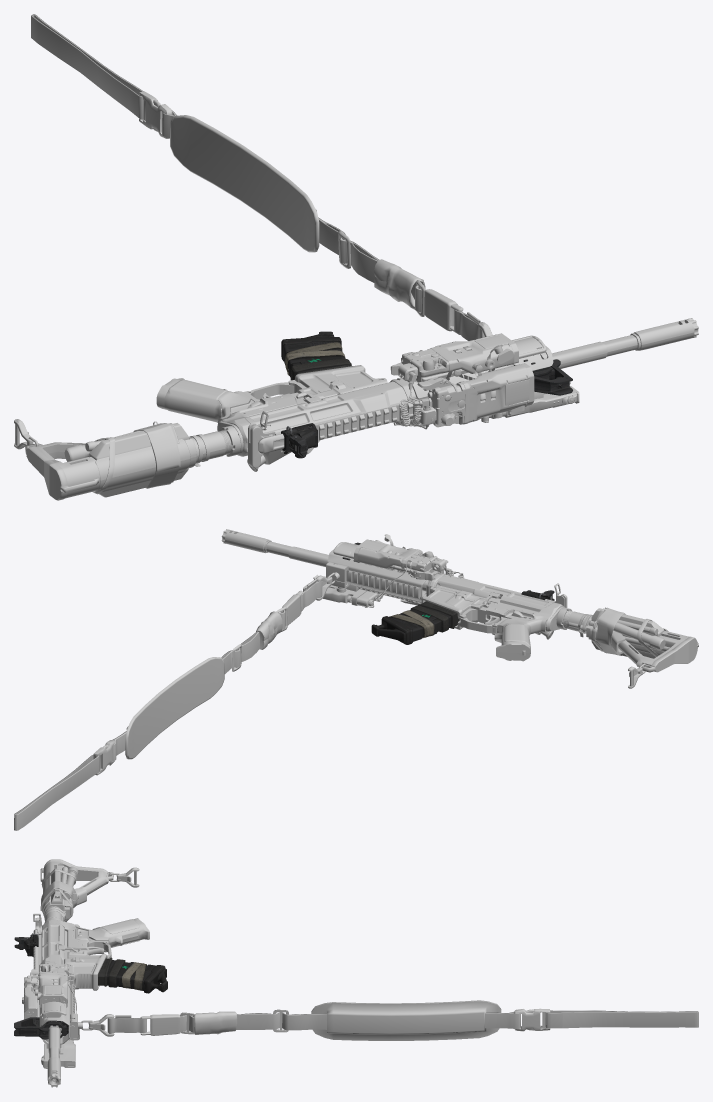
Rendered from Assault_NV4_FBX.fbx.
The picture shows the model from 3 angles, top to bottom: view 1: azimuth 30°, elevation 25°; view 2: azimuth 150°, elevation 25°; view 3: azimuth 270°, elevation 25°; orthographic projection. The views are drawn at different scales.
Visible parts, largest first — view 1: weapon_kb_m4_accessories_2_camo, weapon_kb_m4_body_camo, weapon_kb_m4_body_gunpaint_left_camo, weapon_kb_m4_accessories_camo, weapon_kb_m4_body_tint_camo, weapon_kb_m4_accessories_3_camo, weapon_kb_m4_mag_camo, weapon_kb_m4_sights_camo, weapon_kb_m4_accessories_1_camo; view 2: weapon_kb_m4_accessories_2_camo, weapon_kb_m4_body_camo, weapon_kb_m4_body_tint_camo, weapon_kb_m4_body_gunpaint_left_camo, weapon_kb_m4_mag_camo, weapon_kb_m4_accessories_3_camo, weapon_kb_m4_accessories_1_camo; view 3: weapon_kb_m4_accessories_2_camo, weapon_kb_m4_body_camo, weapon_kb_m4_body_gunpaint_left_camo, weapon_kb_m4_body_tint_camo, weapon_kb_m4_mag_camo, weapon_kb_m4_accessories_3_camo, weapon_kb_m4_sights_camo, weapon_kb_m4_accessories_camo, weapon_kb_m4_accessories_1_camo.
Boxes of the visible parts, box(x1,y1,x2,y2) form: weapon_kb_m4_accessories_2_camo: box(14, 14, 492, 449); weapon_kb_m4_body_camo: box(25, 318, 698, 500); weapon_kb_m4_body_gunpaint_left_camo: box(221, 365, 408, 439); weapon_kb_m4_accessories_camo: box(393, 363, 534, 429); weapon_kb_m4_body_tint_camo: box(64, 345, 553, 494); weapon_kb_m4_accessories_3_camo: box(390, 333, 518, 427); weapon_kb_m4_mag_camo: box(281, 331, 352, 380); weapon_kb_m4_sights_camo: box(281, 355, 572, 458); weapon_kb_m4_accessories_1_camo: box(489, 382, 579, 418); weapon_kb_m4_accessories_2_camo: box(14, 562, 646, 830); weapon_kb_m4_body_camo: box(221, 529, 698, 672); weapon_kb_m4_body_tint_camo: box(327, 549, 665, 661); weapon_kb_m4_body_gunpaint_left_camo: box(421, 575, 564, 626); weapon_kb_m4_mag_camo: box(371, 601, 459, 644); weapon_kb_m4_accessories_3_camo: box(354, 534, 453, 605); weapon_kb_m4_accessories_1_camo: box(303, 574, 383, 607); weapon_kb_m4_accessories_2_camo: box(70, 867, 698, 1040); weapon_kb_m4_body_camo: box(33, 859, 139, 1087); weapon_kb_m4_body_gunpaint_left_camo: box(38, 920, 111, 981); weapon_kb_m4_body_tint_camo: box(35, 866, 149, 1044); weapon_kb_m4_mag_camo: box(98, 957, 167, 993); weapon_kb_m4_accessories_3_camo: box(33, 961, 71, 1007); weapon_kb_m4_sights_camo: box(14, 933, 68, 1039); weapon_kb_m4_accessories_camo: box(22, 969, 76, 1019); weapon_kb_m4_accessories_1_camo: box(41, 1036, 75, 1068).
Bounding box in the file's own units: 93.84 × 11.72 × 128.
